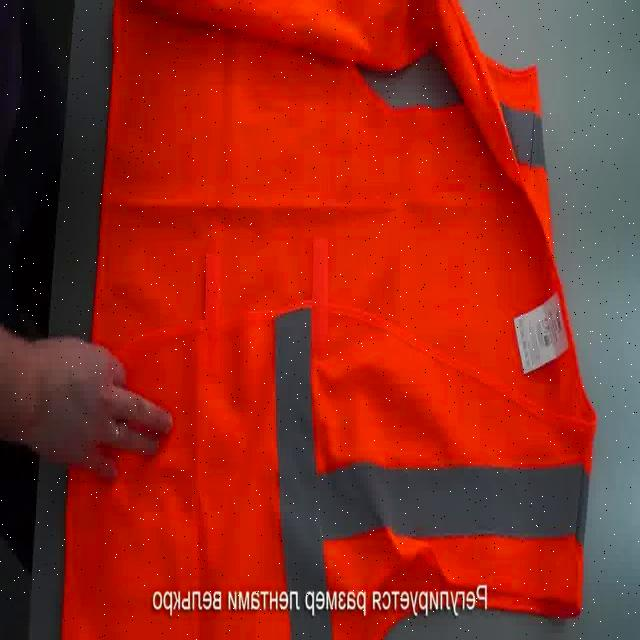Vest: (108, 0, 586, 633)
